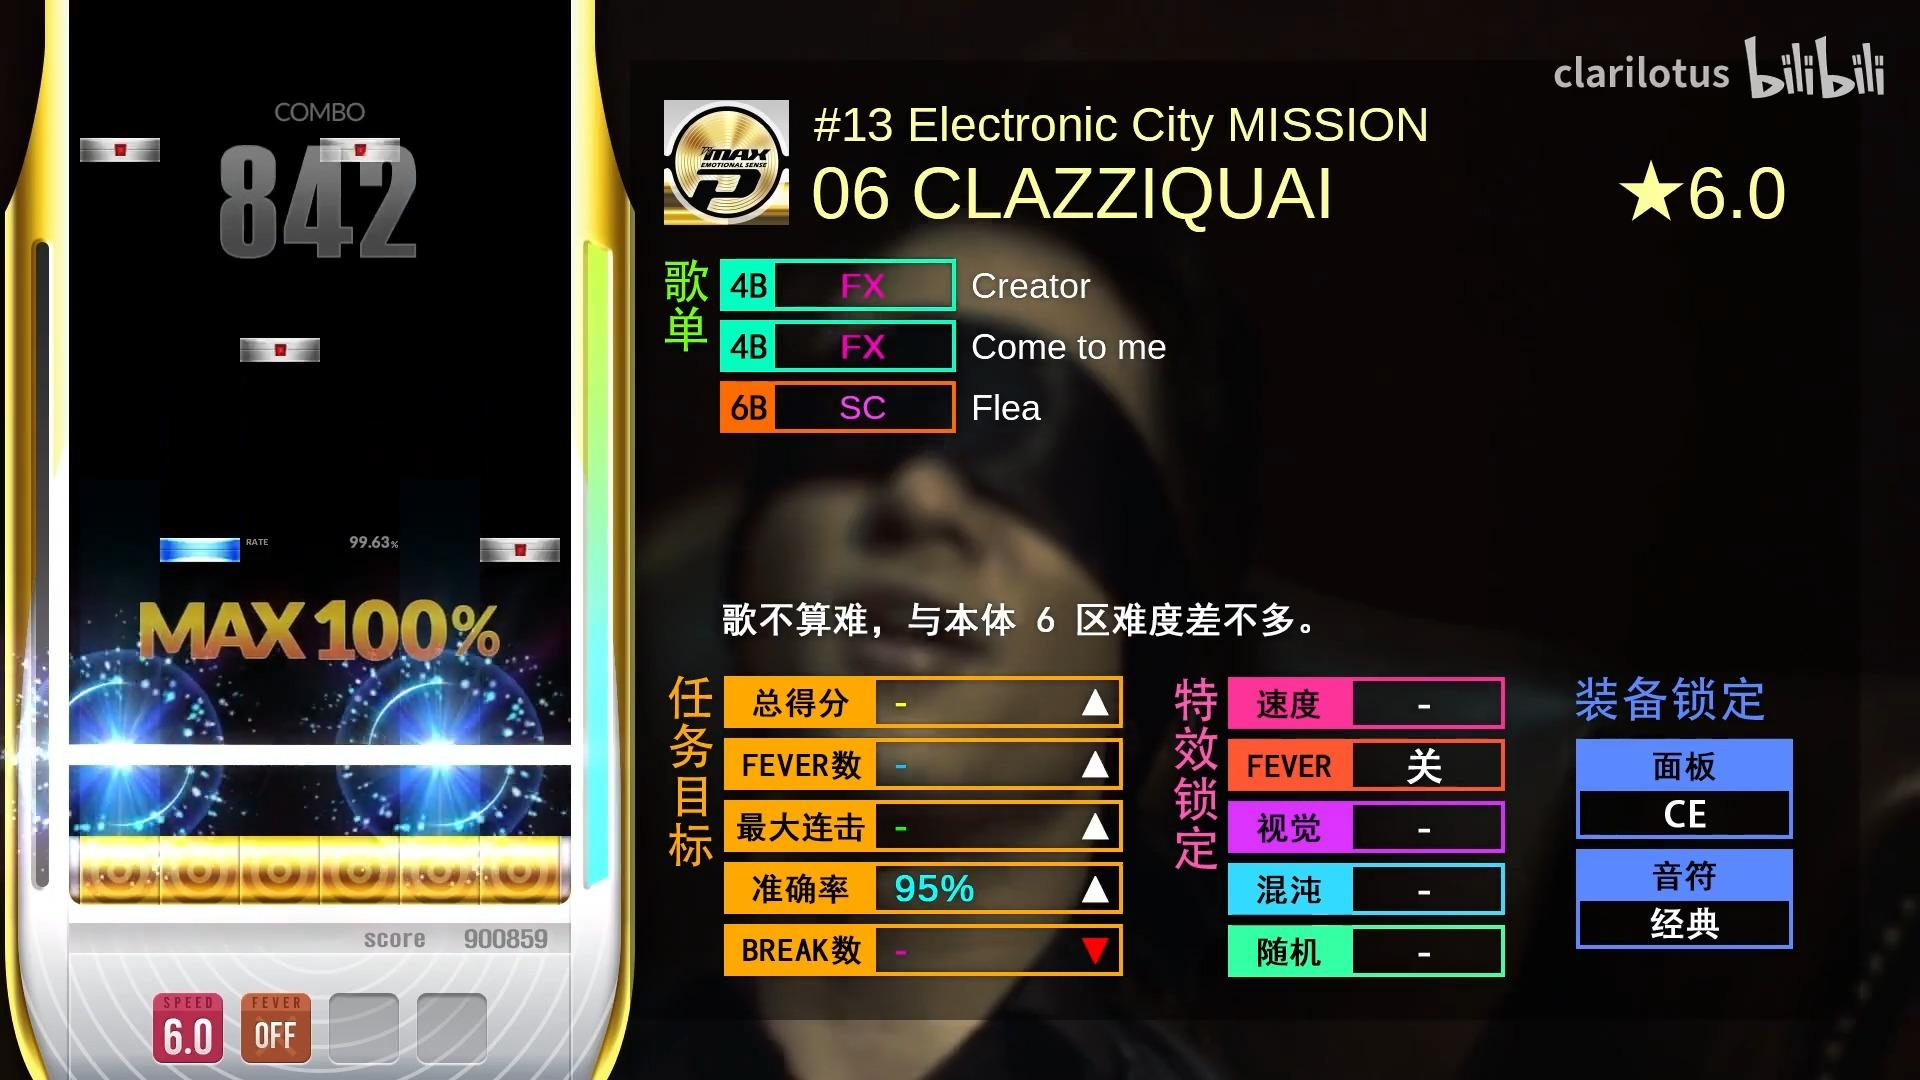note: (239, 336, 322, 363), (160, 537, 240, 563), (479, 538, 562, 563), (79, 137, 161, 162), (319, 137, 401, 162)
